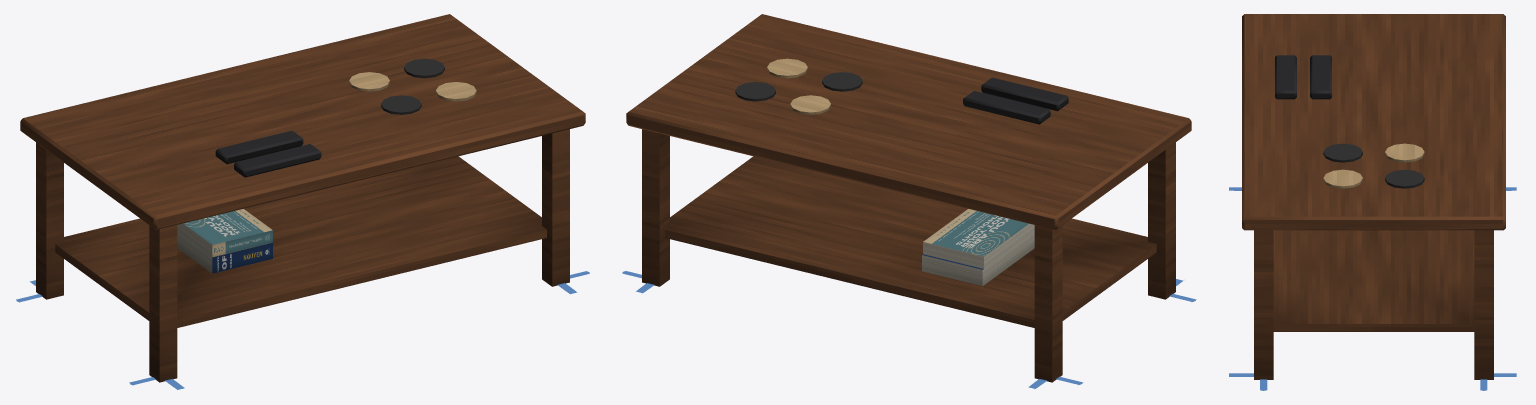
Rendered from coffee_table.glb.
3 views of the same model, side by side, from view 1: azimuth 30°, elevation 25°; view 2: azimuth 150°, elevation 25°; view 3: azimuth 270°, elevation 25° (orthographic). The views are drawn at different scales.
Visible parts, largest first — view 1: body, panels, decals; view 2: body, panels, decals; view 3: body, decals.
Boxes of the visible parts, x1,y1,x2,y2 form: body: (20,14,585,382); panels: (177,209,272,273); decals: (16,271,589,389); body: (626,14,1191,382); panels: (922,209,1034,286); decals: (622,271,1196,389); body: (1242,14,1505,379); decals: (1229,187,1516,390).
Size of what is drawn, in the model's own units: 1.17 by 0.442 by 0.67.
6 materials, 4 textured.
